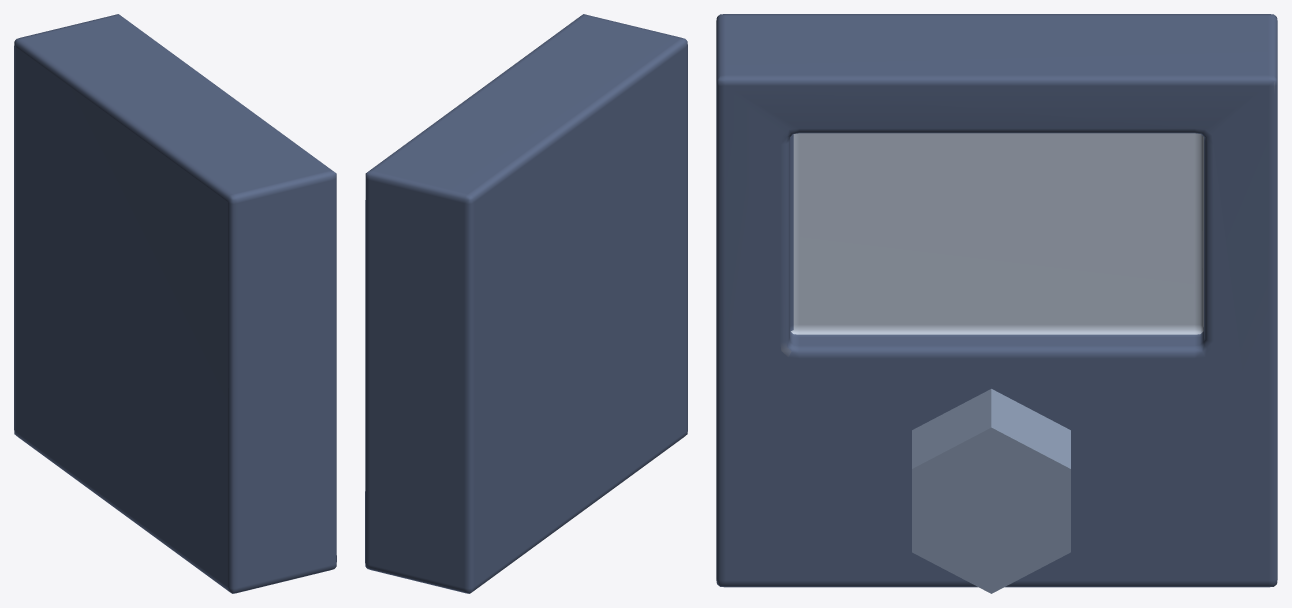
The model's file is thermostat.glb.
3 renders of one model, left to right at view 1: azimuth 30°, elevation 25°; view 2: azimuth 150°, elevation 25°; view 3: azimuth 270°, elevation 25°, orthographic. The views are drawn at different scales.
Parts seen in each view (by area): view 1: Thermostat.Base; view 2: Thermostat.Base; view 3: Thermostat.Base, Thermostat.Button.
Part boxes in pixels (x1=…): Thermostat.Base: x1=14, y1=14, x2=336, y2=593; Thermostat.Base: x1=365, y1=14, x2=687, y2=593; Thermostat.Base: x1=716, y1=14, x2=1277, y2=587; Thermostat.Button: x1=912, y1=389, x2=1070, y2=593.
Size of the model in its own units: 0.1968 by 0.4466 by 0.4455.
2 materials, 2 textured.
